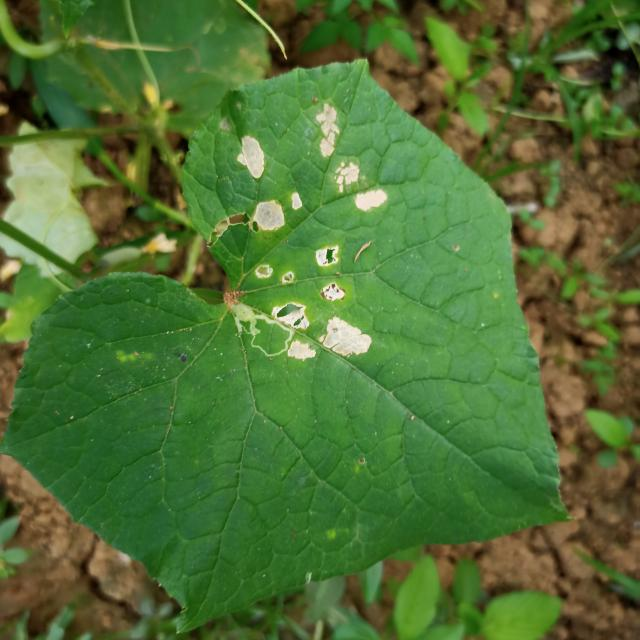disease_cucumber: (275, 243, 375, 362), (318, 103, 386, 214), (238, 136, 302, 232)
